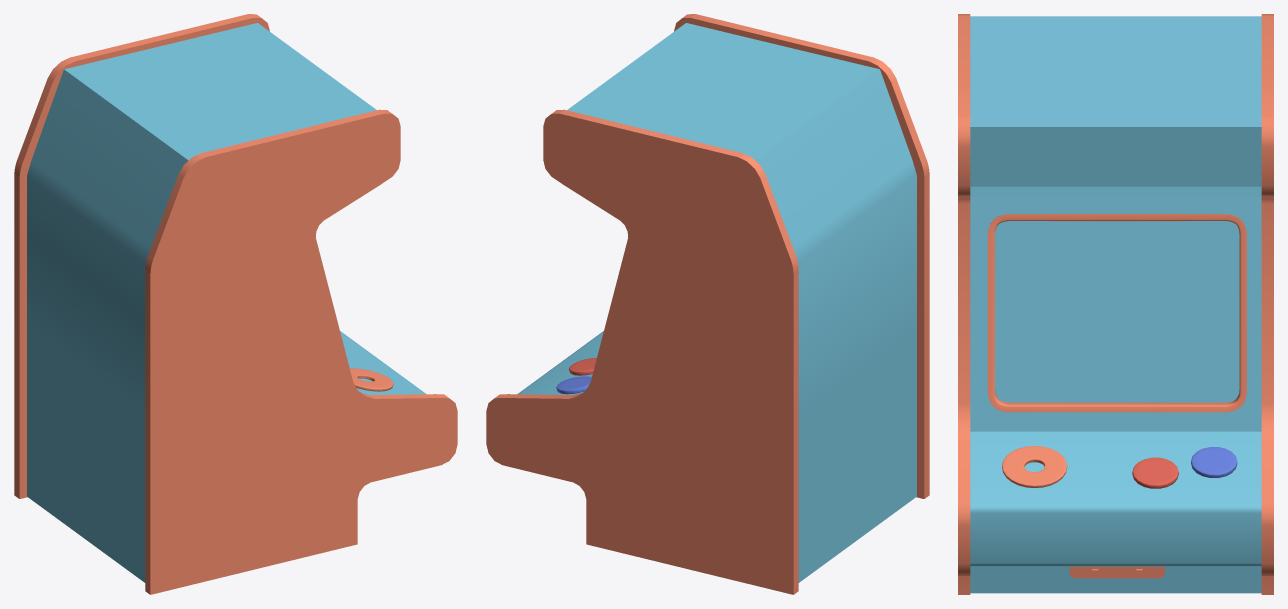
File: arcade.glb
3 views of the same model, side by side, from view 1: azimuth 30°, elevation 25°; view 2: azimuth 150°, elevation 25°; view 3: azimuth 270°, elevation 25° (orthographic). The views are drawn at different scales.
Parts seen in each view (by area): view 1: Arcade_Sides, Arcade_Body, Arcade_Joystick_Bottom; view 2: Arcade_Sides, Arcade_Body; view 3: Arcade_Body, Arcade_Sides, Arcade_Screen_Frame, Arcade_Joystick_Bottom, Arcade_Coin_Receptor, Arcade_Button1_Bottom, Arcade_Button2_Bottom.
Boxes of the visible parts, left/top/right/bottom form: Arcade_Sides: left=14, top=14, right=457, bottom=594; Arcade_Body: left=27, top=23, right=426, bottom=582; Arcade_Joystick_Bottom: left=350, top=368, right=393, bottom=391; Arcade_Sides: left=486, top=14, right=929, bottom=594; Arcade_Body: left=517, top=23, right=916, bottom=582; Arcade_Body: left=970, top=16, right=1261, bottom=593; Arcade_Sides: left=958, top=14, right=1273, bottom=594; Arcade_Screen_Frame: left=987, top=214, right=1246, bottom=412; Arcade_Joystick_Bottom: left=1002, top=446, right=1067, bottom=488; Arcade_Coin_Receptor: left=1069, top=566, right=1164, bottom=578; Arcade_Button1_Bottom: left=1132, top=457, right=1178, bottom=488; Arcade_Button2_Bottom: left=1191, top=447, right=1237, bottom=477.
Bounding box in the file's own units: 6.02 × 7.95 × 4.62.
